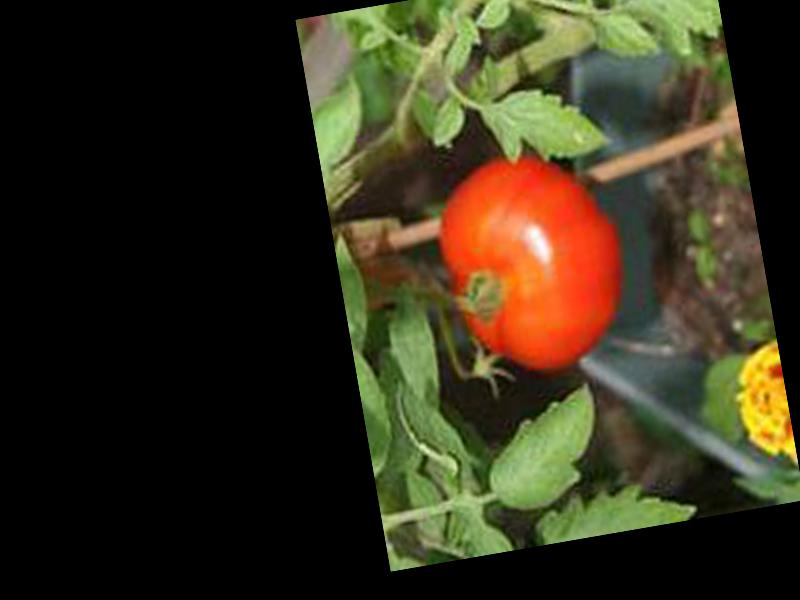Tomato: (425, 138, 636, 387)
